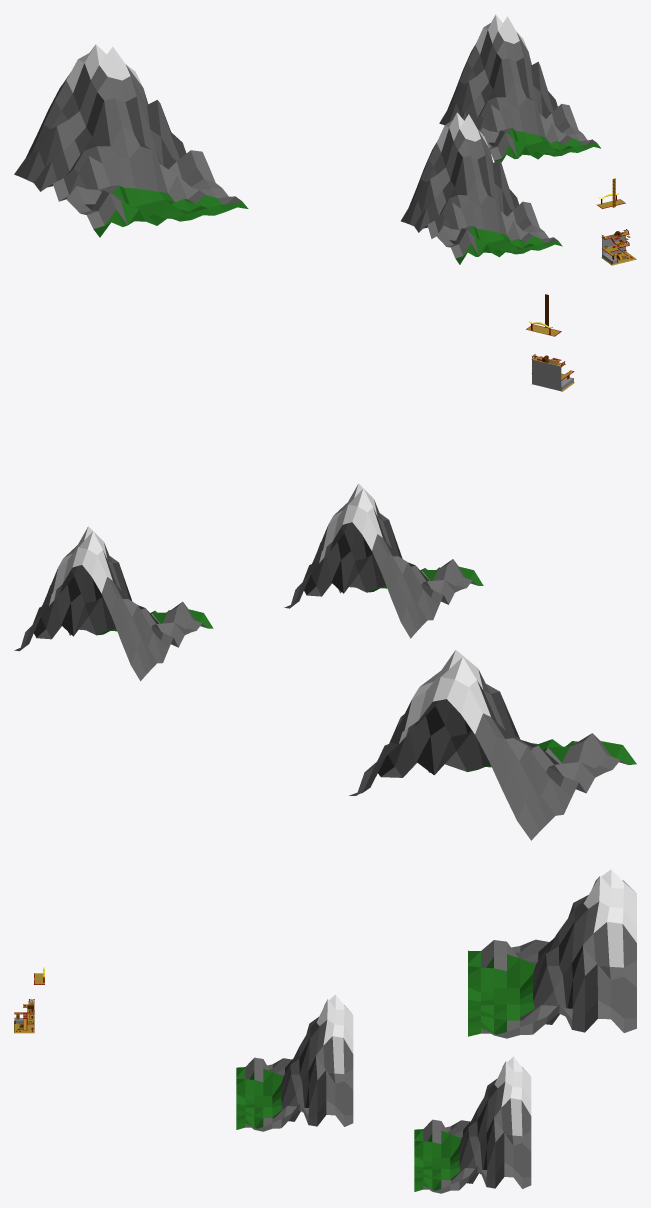
File: temple_structure_2.fbx
3 renders of one model, top to bottom at view 1: azimuth 30°, elevation 25°; view 2: azimuth 150°, elevation 25°; view 3: azimuth 270°, elevation 25°, orthographic. The views are drawn at different scales.
Parts seen in each view (by area): view 1: Plane.002, Plane, Plane.001; view 2: Plane.002, Plane.001, Plane, Cube.001; view 3: Plane.002, Plane, Plane.001.
Boxes of the visible parts, box(x1,y1,x2,y2) form: Plane.002: box(14, 44, 248, 237); Plane: box(401, 112, 562, 264); Plane.001: box(439, 14, 600, 162); Plane.002: box(349, 650, 636, 840); Plane.001: box(14, 526, 213, 681); Plane: box(284, 483, 483, 638); Cube.001: box(532, 359, 561, 390); Plane.002: box(468, 869, 636, 1038); Plane: box(236, 994, 353, 1131); Plane.001: box(414, 1056, 531, 1193).
Bounding box in the file's own units: 63742 × 21105 × 73697.
